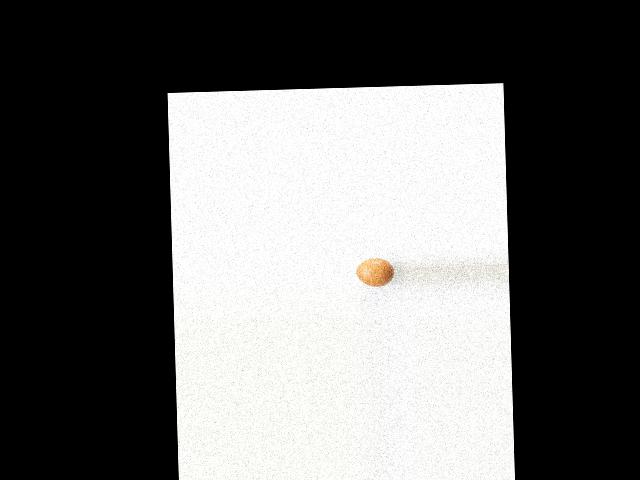egg: (355, 258, 395, 287)
